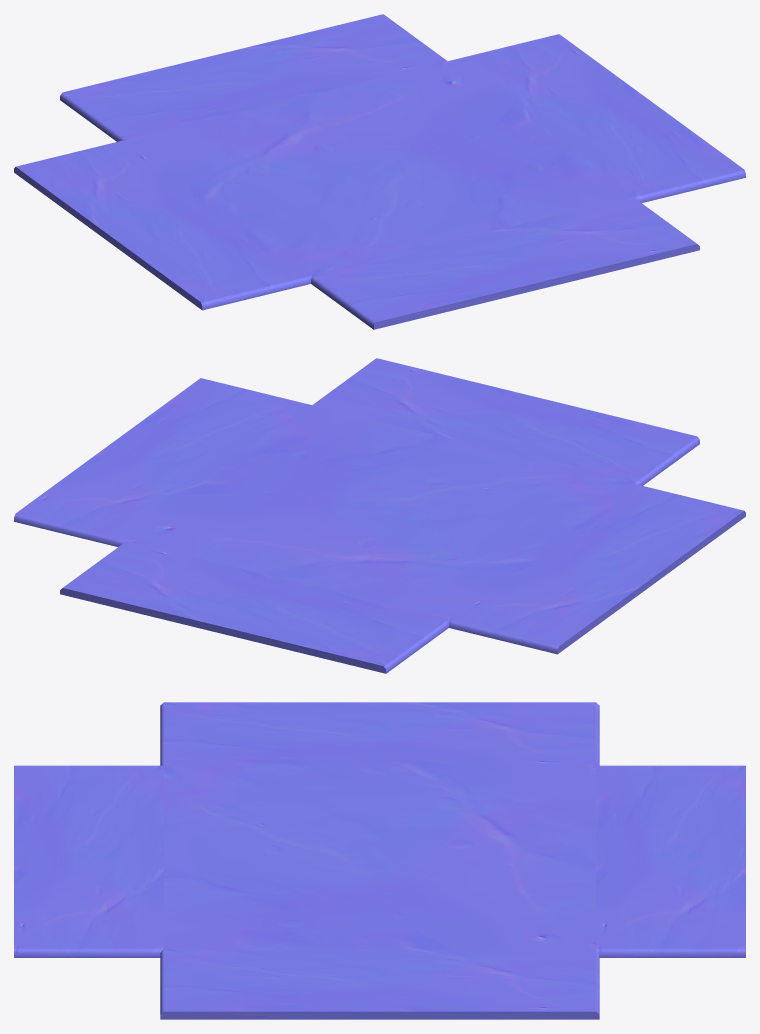
The model's file is sm_road_xroads_01.fbx.
The picture shows the model from 3 angles, top to bottom: view 1: azimuth 30°, elevation 25°; view 2: azimuth 150°, elevation 25°; view 3: azimuth 270°, elevation 25°; orthographic projection. The views are drawn at different scales.
Visible parts, largest first — view 1: sm_road_xroads_01; view 2: sm_road_xroads_01; view 3: sm_road_xroads_01.
Boxes of the visible parts, box(x1,y1,x2,y2) form: sm_road_xroads_01: box(14, 14, 745, 329); sm_road_xroads_01: box(14, 358, 745, 673); sm_road_xroads_01: box(14, 702, 745, 1019).
Bounding box in the file's own units: 2000 × 24.87 × 2000.
